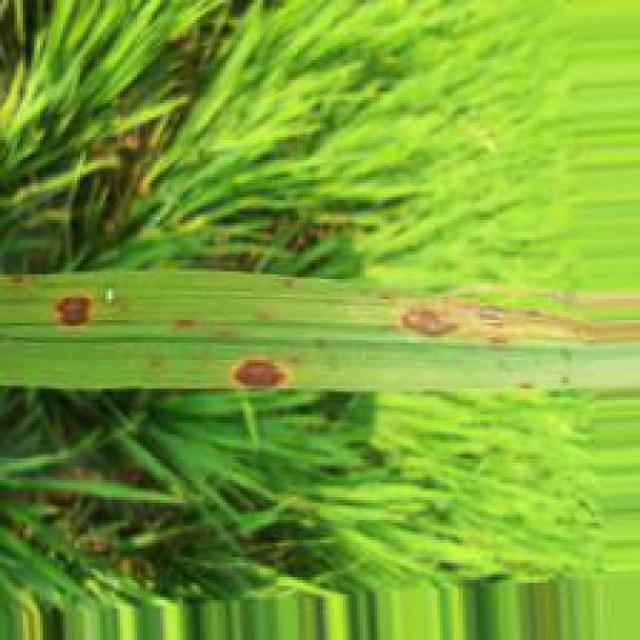Brown_Spot: (388, 303, 471, 343), (221, 352, 293, 389), (471, 301, 511, 352), (49, 289, 98, 330)
